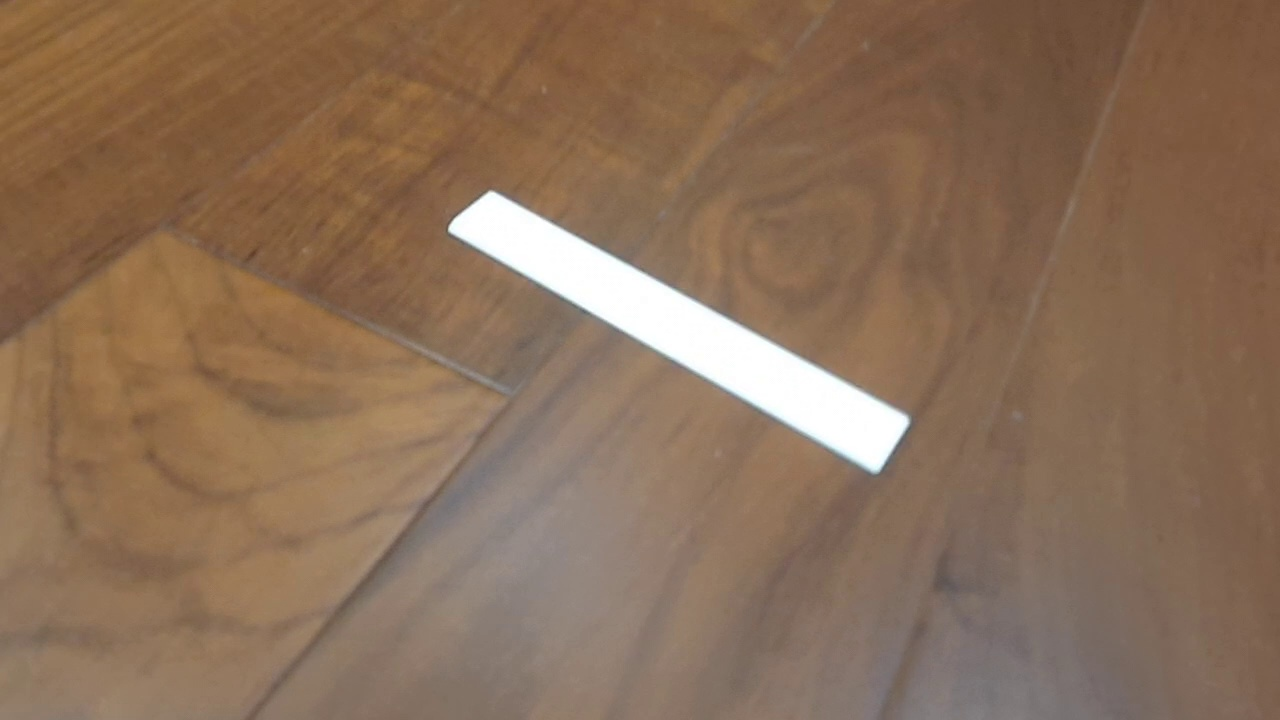ruler: (445, 188, 912, 476)
